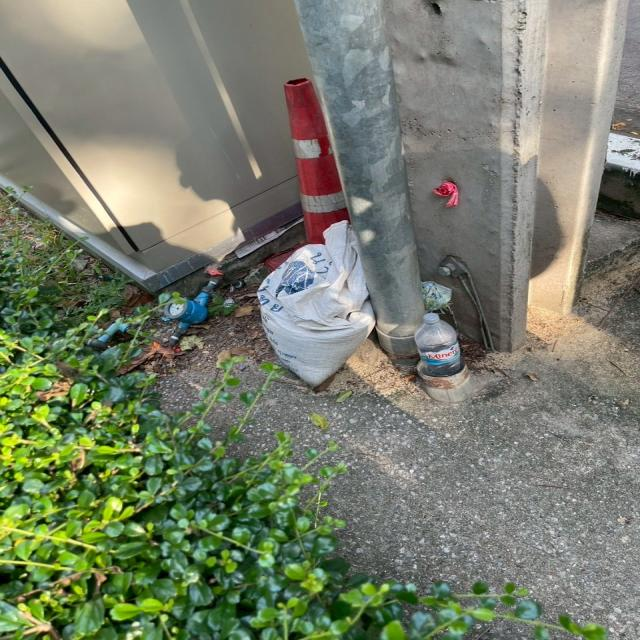plastic bag: (252, 220, 382, 395)
plastic bottle: (406, 314, 476, 384)
